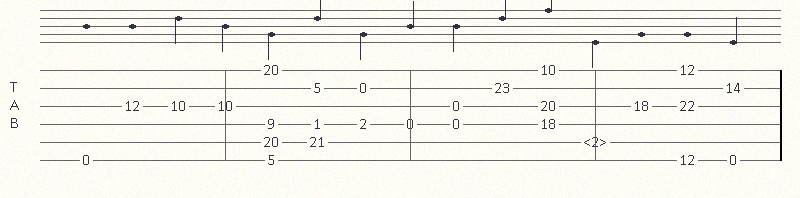0: (82, 153, 94, 167), (359, 81, 371, 95), (406, 117, 418, 131), (452, 99, 464, 113), (452, 117, 464, 131), (729, 153, 741, 167)
1: (313, 117, 325, 131)
10: (170, 99, 190, 113), (217, 99, 237, 113), (540, 63, 560, 77)
12: (124, 99, 144, 113), (679, 153, 699, 167), (679, 63, 699, 77)
14: (725, 81, 745, 95)
18: (540, 117, 560, 131), (633, 99, 653, 113)
2: (359, 117, 371, 131)
20: (263, 135, 283, 149), (263, 63, 283, 77), (540, 99, 560, 113)
21: (309, 135, 329, 149)
22: (679, 99, 699, 113)
23: (494, 81, 514, 95)
5: (267, 153, 279, 167), (313, 81, 325, 95)
9: (267, 117, 279, 131)
harmonic: (583, 135, 611, 149)
